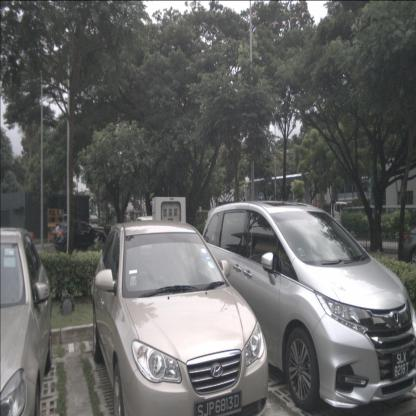movable_object-trafficcone: (46, 231, 51, 244), (310, 199, 314, 209), (316, 199, 319, 211)
vehicle-car: (202, 201, 415, 414), (92, 219, 269, 416), (0, 227, 53, 415), (52, 219, 107, 257), (402, 226, 416, 272)
vehicle-truck: (304, 200, 349, 234)
